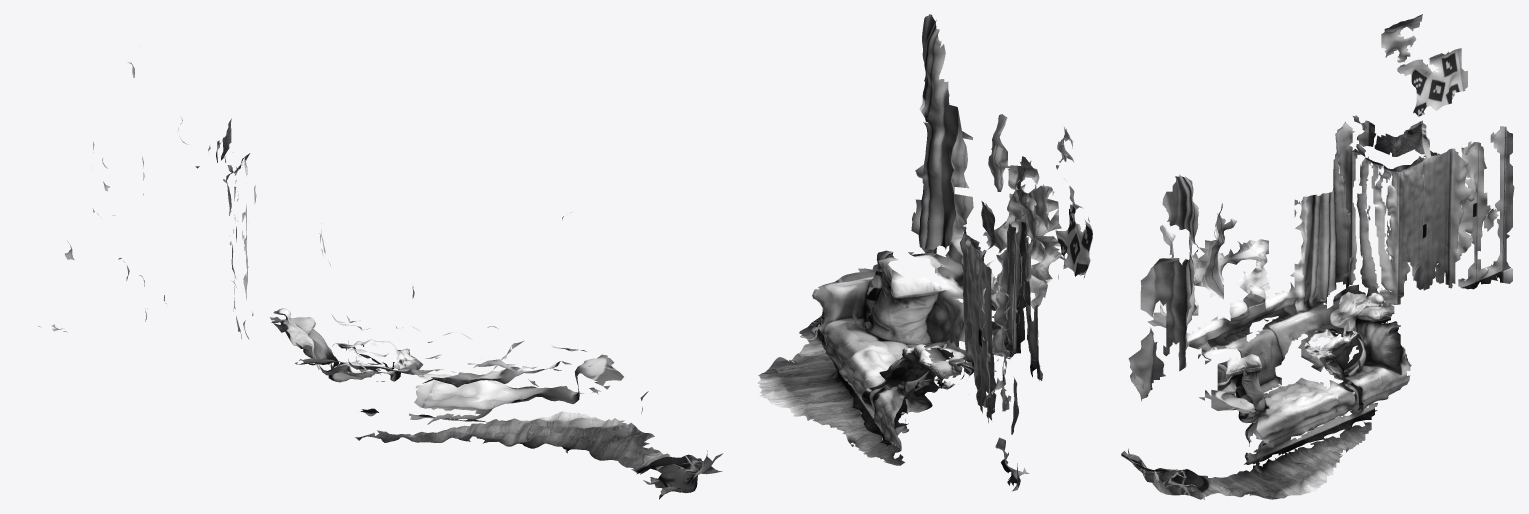
Rendered from 85003-NuOffice-tex.glb.
The picture shows the model from 3 angles, left to right: view 1: azimuth 30°, elevation 25°; view 2: azimuth 150°, elevation 25°; view 3: azimuth 270°, elevation 25°; orthographic projection. The views are drawn at different scales.
Visible parts, largest first — view 1: Node; view 2: Node; view 3: Node.
Boxes of the visible parts, x1,y1,x2,y2 form: Node: (38,62,723,499); Node: (757,14,1092,491); Node: (1121,14,1514,499).
Bounding box in the file's own units: 3.4 × 2.99 × 3.1.
1 material, 1 textured.
